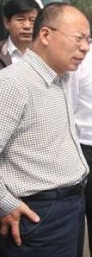boots: (85, 215, 92, 230), (85, 203, 92, 216)
